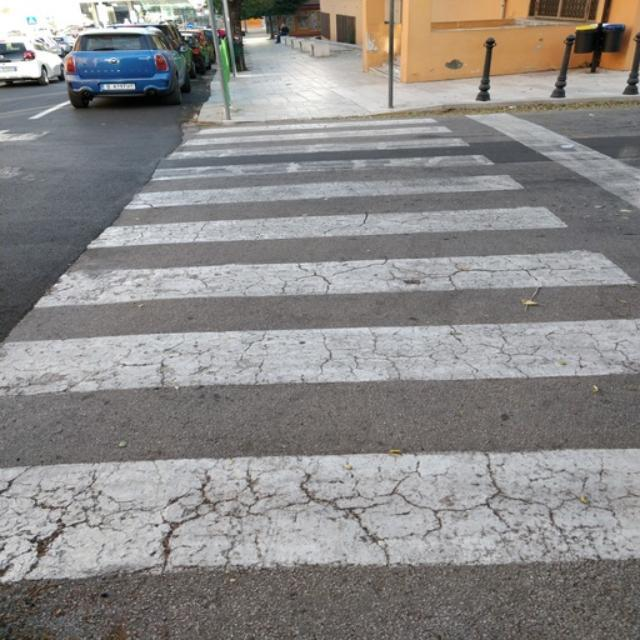sidewalk: (0, 116, 640, 585)
